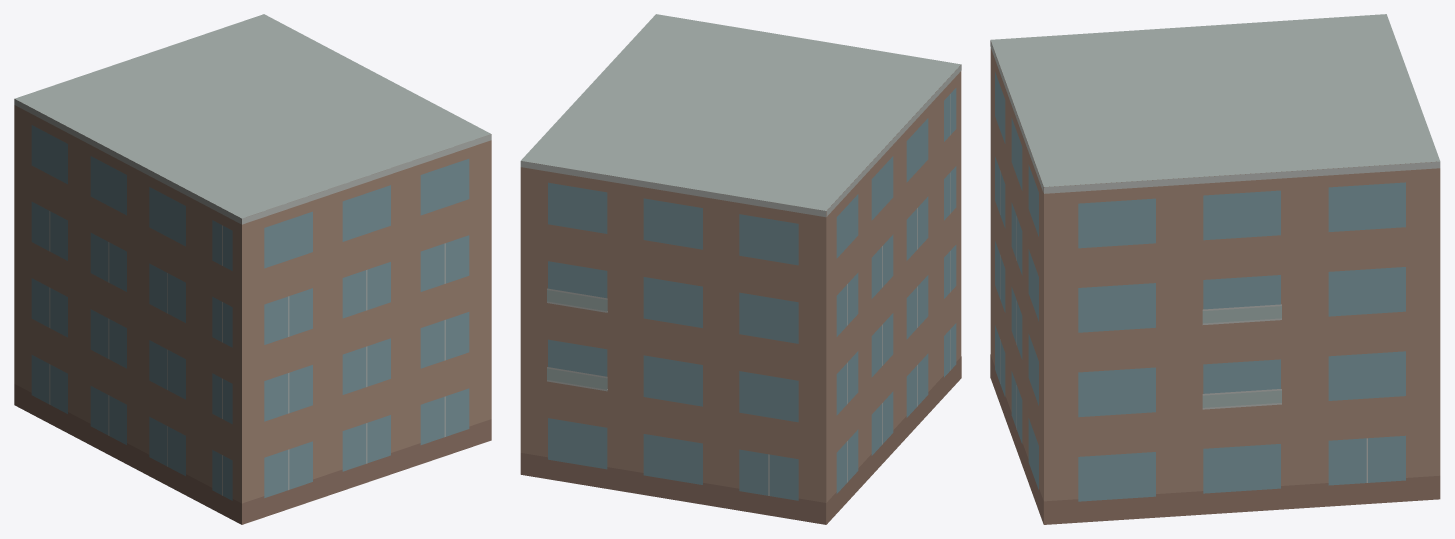
File: residential-f13ad0d8-28a5-442a-8c79-9eafb8a8c23c.glb
The picture shows the model from 3 angles, left to right: view 1: azimuth 30°, elevation 25°; view 2: azimuth 150°, elevation 25°; view 3: azimuth 270°, elevation 25°; orthographic projection. The views are drawn at different scales.
Parts seen in each view (by area): view 1: residential-f13ad0d8-28a5-442a-8c79-9eafb8a8c23c.tmp; view 2: residential-f13ad0d8-28a5-442a-8c79-9eafb8a8c23c.tmp; view 3: residential-f13ad0d8-28a5-442a-8c79-9eafb8a8c23c.tmp.
Part boxes in pixels (x1,y1,x2,y2): residential-f13ad0d8-28a5-442a-8c79-9eafb8a8c23c.tmp: (14,14,491,524); residential-f13ad0d8-28a5-442a-8c79-9eafb8a8c23c.tmp: (520,14,961,524); residential-f13ad0d8-28a5-442a-8c79-9eafb8a8c23c.tmp: (990,14,1440,524).
Size of the model in its own units: 13.42 by 12.2 by 14.74.
